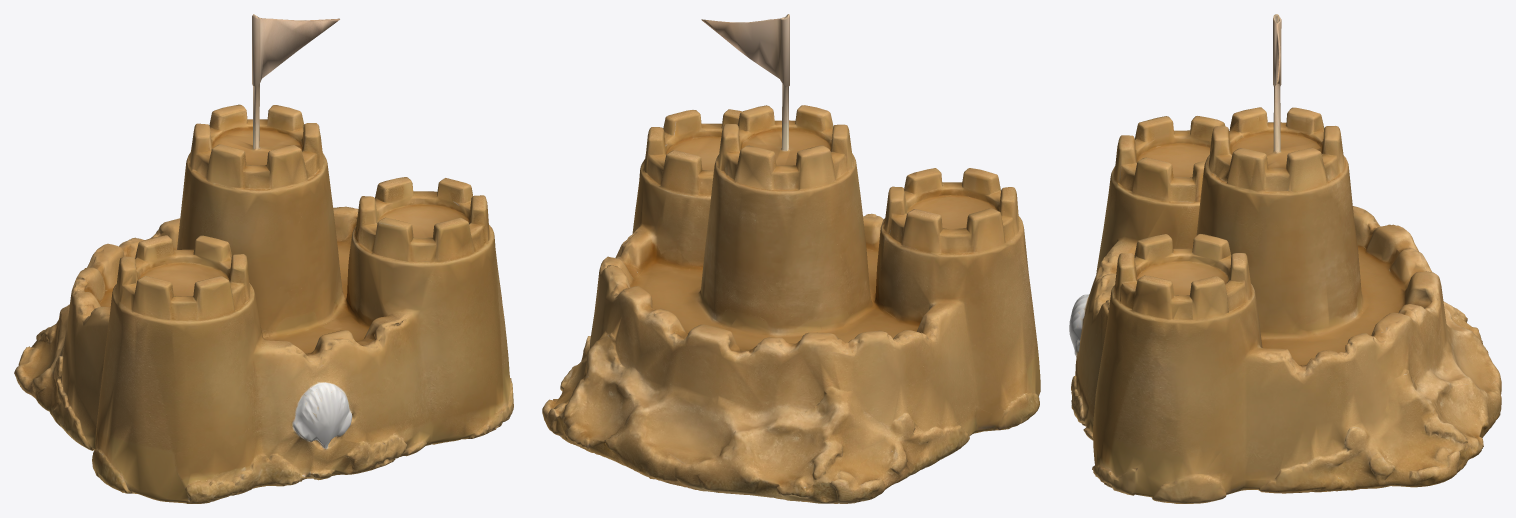
File: sandcastle.glb
3 views of the same model, side by side, from view 1: azimuth 30°, elevation 25°; view 2: azimuth 150°, elevation 25°; view 3: azimuth 270°, elevation 25° (orthographic).
Visible parts, largest first — view 1: Mesh_0; view 2: Mesh_0; view 3: Mesh_0.
Boxes of the visible parts, <box> form: Mesh_0: <box>14,14,513,503</box>; Mesh_0: <box>542,14,1040,503</box>; Mesh_0: <box>1069,14,1501,503</box>.
Bounding box in the file's own units: 1.9 × 1.78 × 1.77.
Materials: 1 (1 with a texture image).
